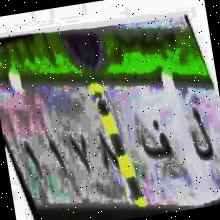1: (21, 133, 48, 193), (48, 136, 70, 186)
7: (63, 120, 96, 186)
8: (90, 127, 122, 179)
faa: (136, 114, 176, 171)
laam: (182, 97, 218, 176)
